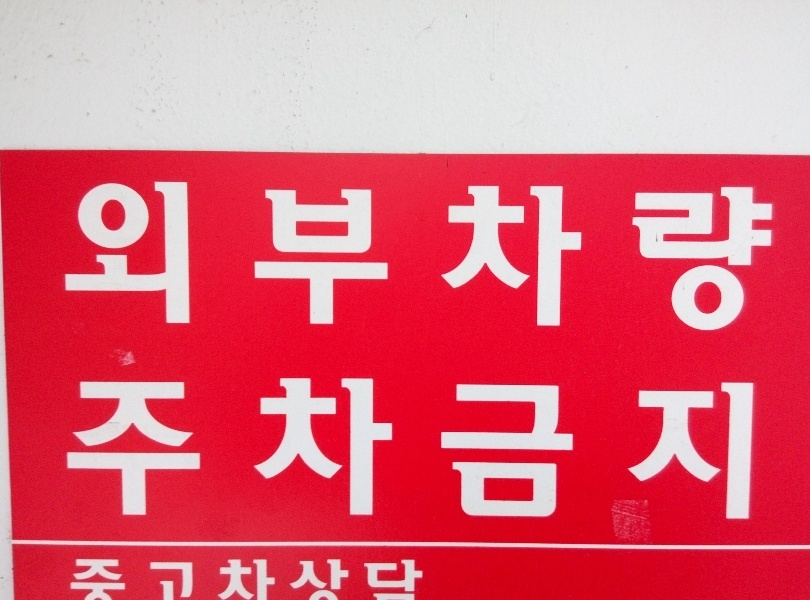text: (641, 187, 656, 332), (657, 187, 672, 332), (673, 187, 688, 332), (689, 187, 704, 332), (705, 187, 720, 332), (721, 187, 736, 332), (737, 187, 752, 332), (753, 187, 768, 332), (65, 182, 80, 326), (81, 182, 96, 326), (97, 182, 112, 326), (113, 182, 128, 326), (129, 182, 144, 326), (145, 182, 160, 326), (161, 182, 176, 326), (449, 187, 464, 330), (465, 187, 480, 330), (481, 187, 496, 330), (497, 187, 512, 330), (513, 187, 528, 330), (529, 187, 544, 330), (545, 187, 560, 330), (561, 187, 576, 330), (257, 379, 272, 519), (273, 379, 288, 519), (289, 379, 304, 519), (305, 379, 320, 519), (321, 379, 336, 519), (337, 379, 352, 519), (353, 379, 368, 519), (369, 379, 384, 519), (81, 381, 96, 519), (97, 381, 112, 519), (113, 381, 128, 519), (129, 381, 144, 519), (145, 381, 160, 519), (161, 381, 176, 519), (177, 381, 192, 519), (257, 190, 272, 327), (273, 190, 288, 327), (289, 190, 304, 327), (305, 190, 320, 327), (321, 190, 336, 327), (337, 190, 352, 327), (353, 190, 368, 327), (369, 190, 384, 327), (449, 386, 464, 520), (465, 386, 480, 520), (481, 386, 496, 520), (497, 386, 512, 520), (513, 386, 528, 520), (529, 386, 544, 520), (545, 386, 560, 520), (561, 386, 575, 520), (177, 182, 190, 326), (67, 381, 80, 519), (630, 187, 640, 332), (193, 381, 202, 519), (385, 379, 393, 519), (441, 386, 448, 520), (442, 187, 448, 330), (769, 187, 774, 332), (59, 182, 64, 326), (577, 187, 582, 330), (385, 190, 390, 327), (81, 557, 96, 600), (97, 557, 112, 600), (113, 557, 128, 600), (129, 557, 144, 600), (145, 557, 160, 600), (161, 557, 176, 600), (177, 557, 192, 600), (193, 557, 208, 600), (209, 557, 224, 600), (225, 557, 240, 600), (241, 557, 256, 600), (257, 557, 272, 600), (273, 557, 288, 600), (289, 557, 304, 600), (305, 557, 320, 600), (321, 557, 336, 600), (337, 557, 352, 600), (353, 557, 368, 600), (369, 557, 384, 600), (385, 557, 400, 600), (401, 557, 416, 600), (68, 557, 80, 600), (417, 557, 426, 600), (254, 190, 256, 327), (255, 379, 256, 519)
